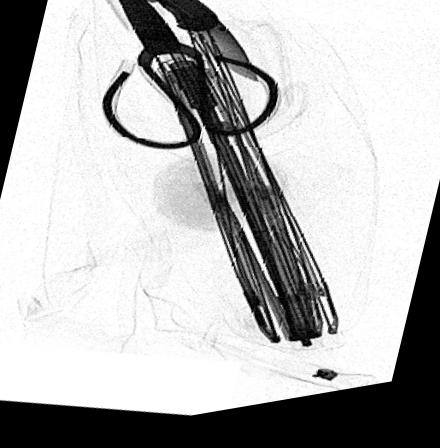Knife: (145, 0, 256, 90)
Scissors: (100, 0, 277, 155)
